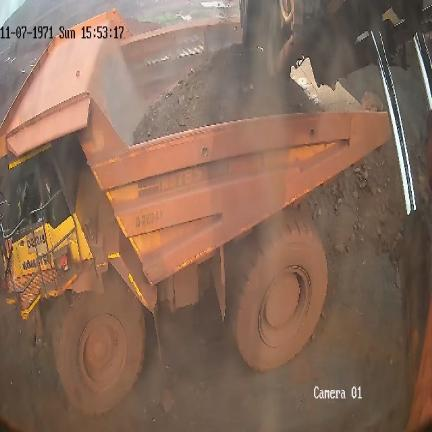pile: (132, 46, 328, 146), (303, 139, 404, 254)
